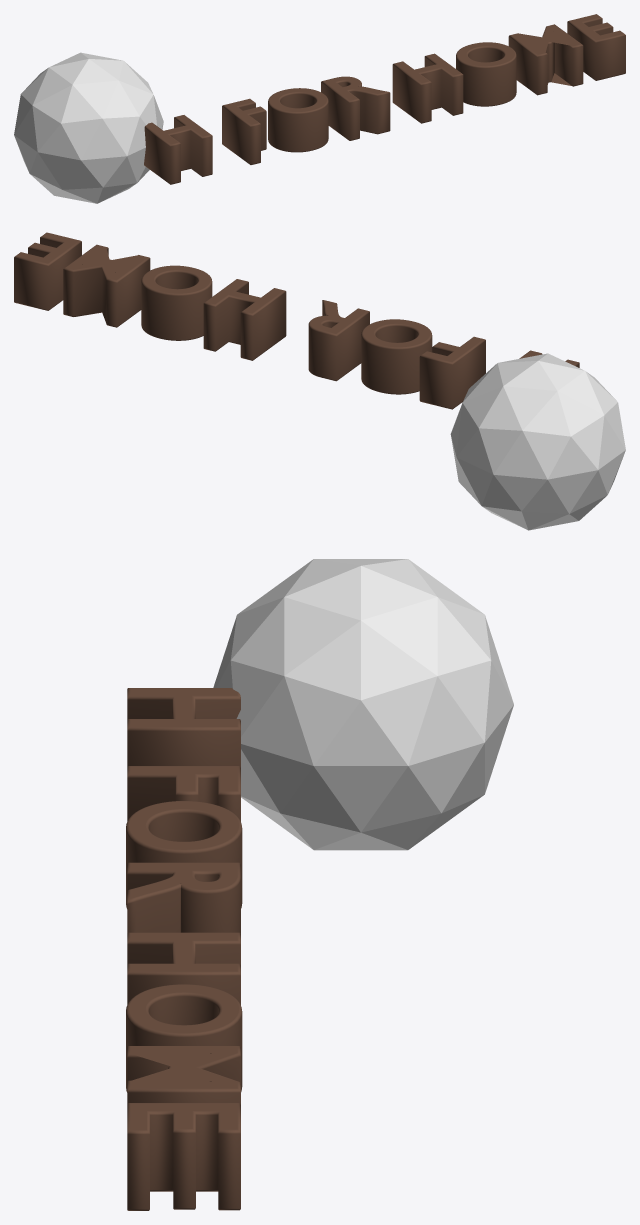
File: HOMETEXT.fbx
3 views of the same model, one above another, from view 1: azimuth 30°, elevation 25°; view 2: azimuth 150°, elevation 25°; view 3: azimuth 270°, elevation 25° (orthographic). The views are drawn at different scales.
Visible parts, largest first — view 1: Text.001, Icosphere; view 2: Text.001, Icosphere; view 3: Icosphere, Text.001.
Boxes of the visible parts, x1,y1,x2,y2 form: Text.001: [144, 14, 625, 184]; Icosphere: [14, 52, 163, 203]; Text.001: [14, 232, 579, 409]; Icosphere: [450, 353, 625, 530]; Icosphere: [213, 559, 513, 850]; Text.001: [126, 688, 242, 1210].
Bounding box in the file's own units: 817 × 200 × 254.
